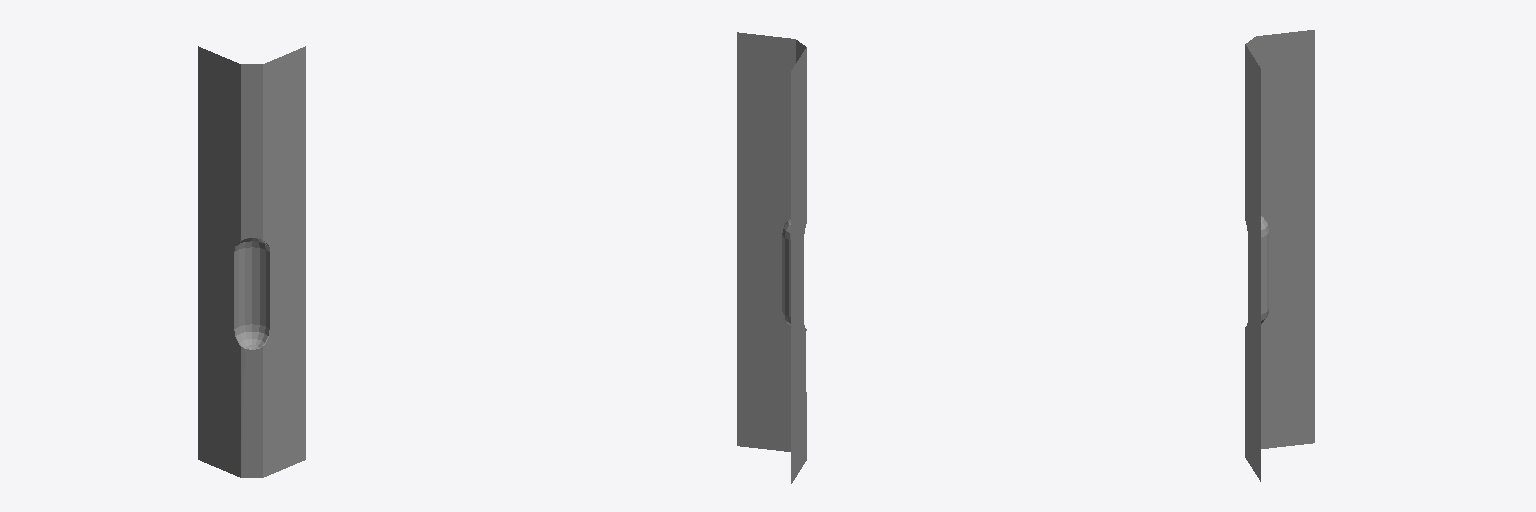
Rendered from SciFiWallCorner01.obj.
3 renders of one model, left to right at view 1: azimuth 30°, elevation 25°; view 2: azimuth 150°, elevation 25°; view 3: azimuth 270°, elevation 25°, orthographic.
Parts seen in each view (by area): view 1: SciFiWallCorner01_Room01Corners_Cube; view 2: SciFiWallCorner01_Room01Corners_Cube; view 3: SciFiWallCorner01_Room01Corners_Cube.
Boxes of the visible parts, box(x1,y1,x2,y2) form: SciFiWallCorner01_Room01Corners_Cube: box(198, 46, 305, 477); SciFiWallCorner01_Room01Corners_Cube: box(737, 32, 806, 483); SciFiWallCorner01_Room01Corners_Cube: box(1245, 30, 1314, 481).
Size of the model in its own units: 0.9 by 4.43 by 0.6717.